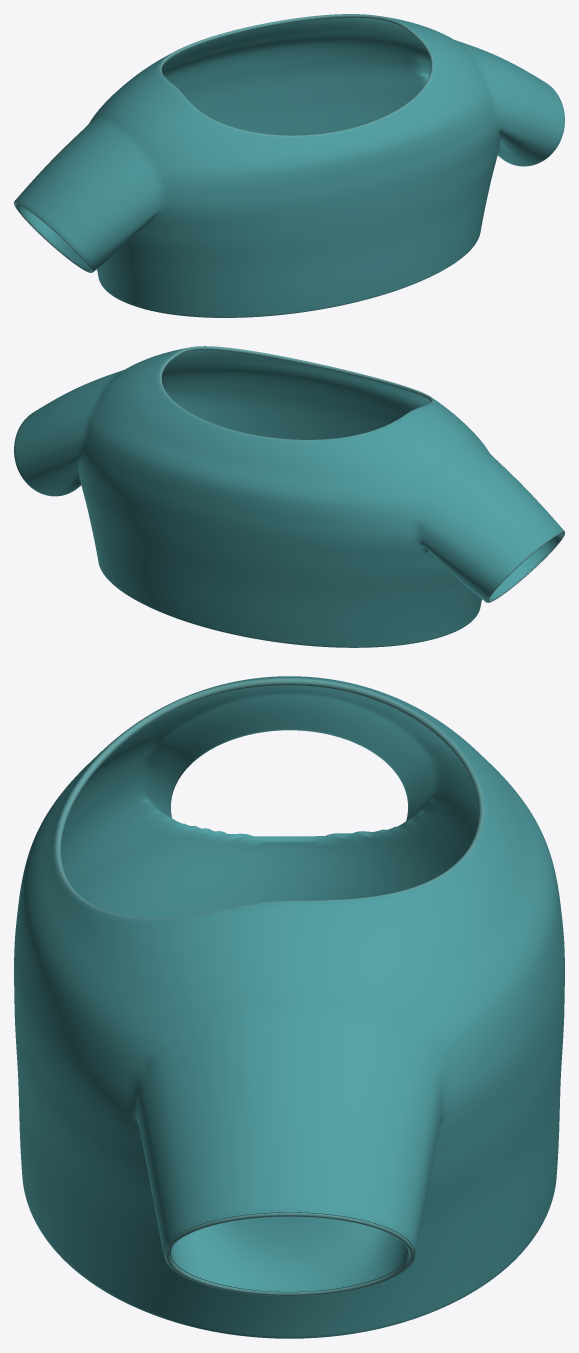
The model's file is Masculine-tshirt-top.glb.
The picture shows the model from 3 angles, top to bottom: view 1: azimuth 30°, elevation 25°; view 2: azimuth 150°, elevation 25°; view 3: azimuth 270°, elevation 25°; orthographic projection. The views are drawn at different scales.
Visible parts, largest first — view 1: Clothing / tshirt, Neckline / fitted crew export, Sleeve / soft cuff -1 export; view 2: Clothing / tshirt, Neckline / fitted crew export, Sleeve / soft cuff -1 export; view 3: Clothing / tshirt, Neckline / fitted crew export, Sleeve / soft cuff 1 export.
Boxes of the visible parts, bbox=[...] form: Clothing / tshirt: bbox=[14, 16, 564, 317]; Neckline / fitted crew export: bbox=[159, 14, 433, 136]; Sleeve / soft cuff -1 export: bbox=[14, 201, 92, 272]; Clothing / tshirt: bbox=[14, 348, 564, 647]; Neckline / fitted crew export: bbox=[159, 346, 433, 440]; Sleeve / soft cuff -1 export: bbox=[486, 531, 564, 602]; Clothing / tshirt: bbox=[14, 676, 564, 1338]; Neckline / fitted crew export: bbox=[54, 678, 484, 919]; Sleeve / soft cuff 1 export: bbox=[164, 1212, 414, 1295].
Size of the model in its own units: 0.9474 by 0.3438 by 0.4506.
